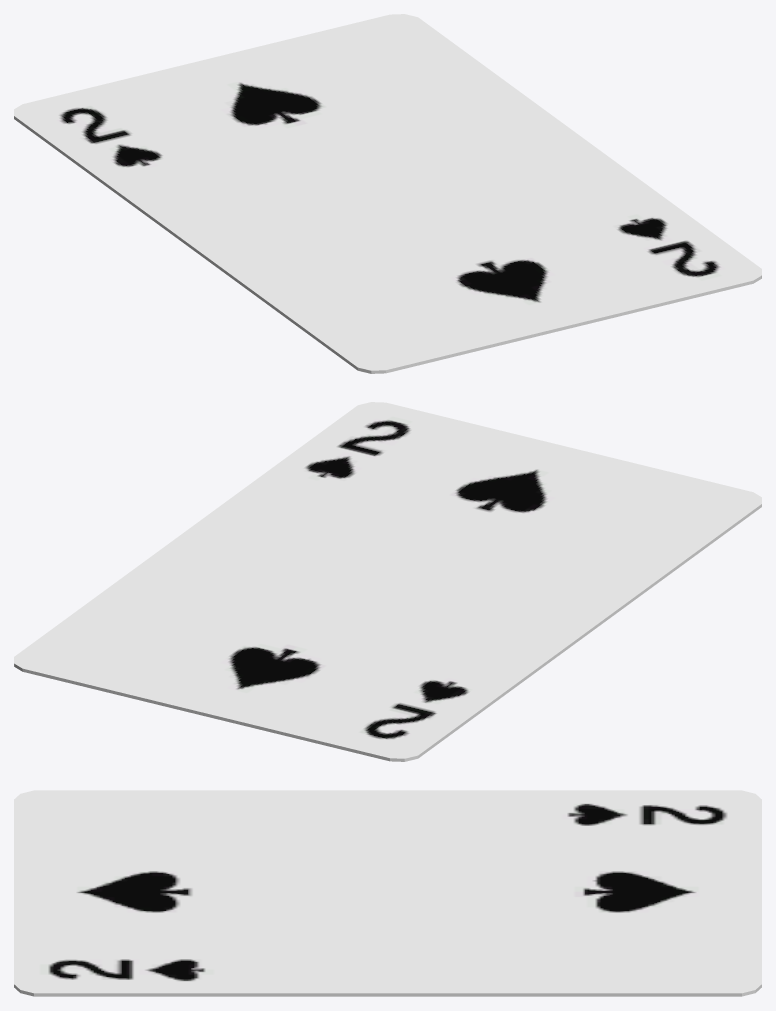
The model's file is spade2.glb.
3 views of the same model, one above another, from view 1: azimuth 30°, elevation 25°; view 2: azimuth 150°, elevation 25°; view 3: azimuth 270°, elevation 25° (orthographic). The views are drawn at different scales.
Parts seen in each view (by area): view 1: card.002; view 2: card.002; view 3: card.002.
Part boxes in pixels (left/top/right/bottom): card.002: left=14, top=14, right=761, bottom=373; card.002: left=14, top=402, right=761, bottom=761; card.002: left=14, top=790, right=761, bottom=996.
Size of the model in its own units: 0.057 by 0.00043 by 0.0887.
Materials: 2 (2 with a texture image).
